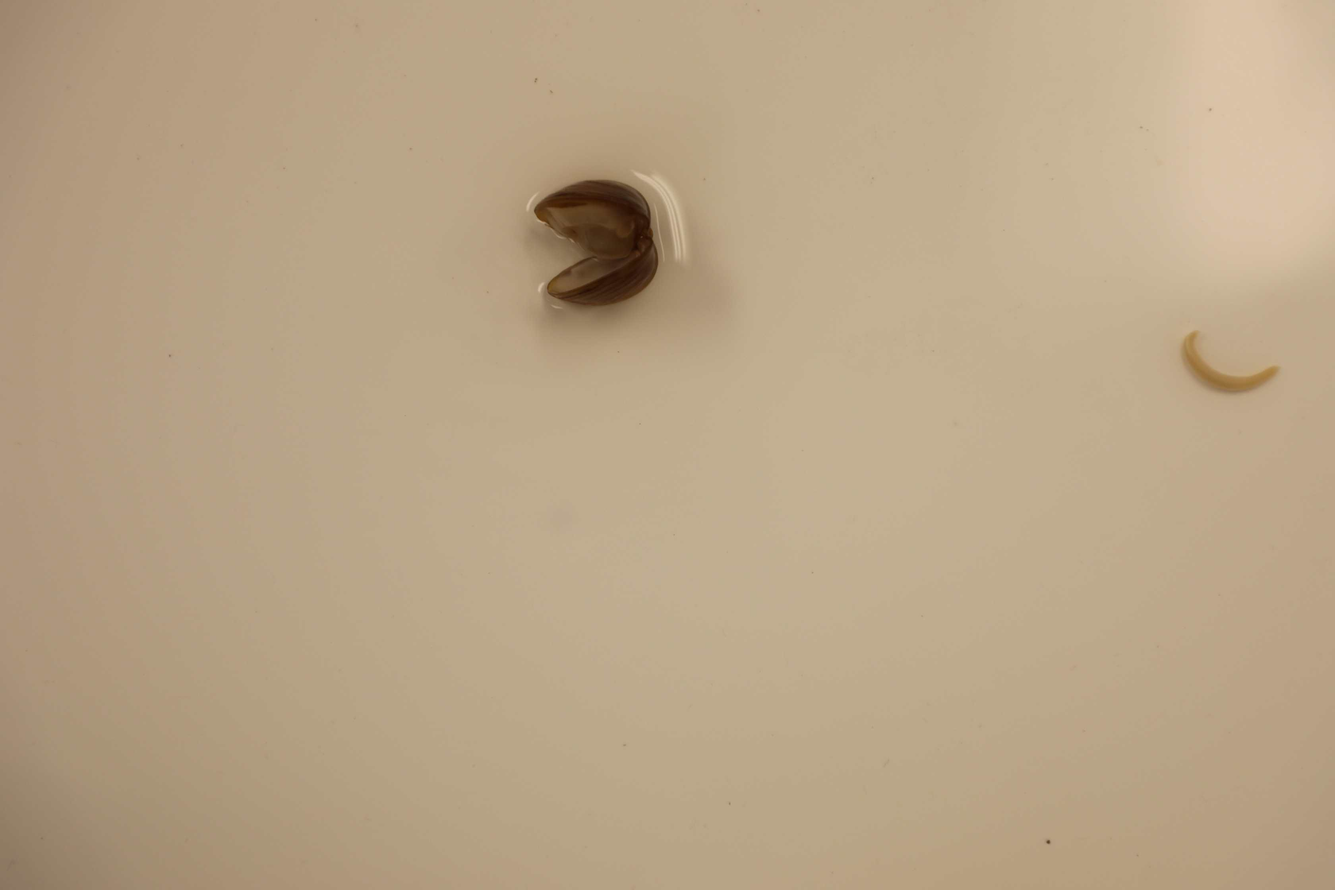Cadisfly: (1181, 330, 1278, 401)
Other: (525, 178, 659, 309)
